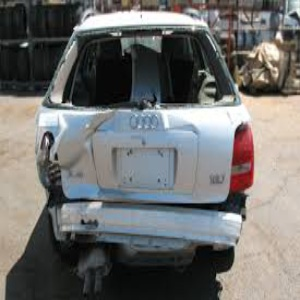bumper: (48, 195, 244, 256)
